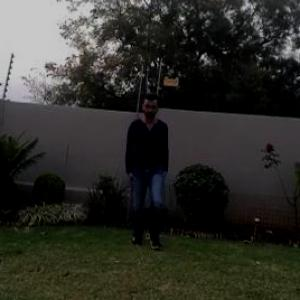follow: (128, 86, 184, 263)
